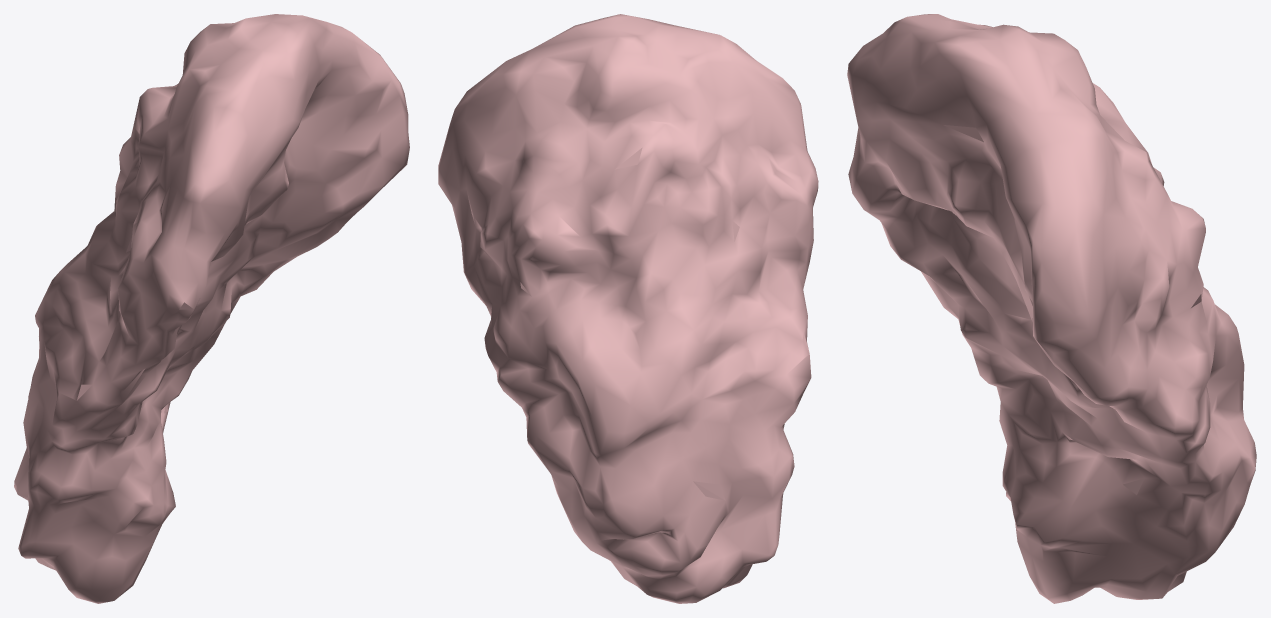
File: 3d-vh-m-palatine-tonsil-r_lod_20.glb
3 renders of one model, left to right at view 1: azimuth 30°, elevation 25°; view 2: azimuth 150°, elevation 25°; view 3: azimuth 270°, elevation 25°, orthographic. The views are drawn at different scales.
Visible parts, largest first — view 1: VH_M_palatine_tonsil_R; view 2: VH_M_palatine_tonsil_R; view 3: VH_M_palatine_tonsil_R.
Part boxes in pixels (left/top/right/bottom): VH_M_palatine_tonsil_R: left=14, top=14, right=409, bottom=603; VH_M_palatine_tonsil_R: left=438, top=14, right=818, bottom=603; VH_M_palatine_tonsil_R: left=847, top=14, right=1256, bottom=603.
Bounding box in the file's own units: 0.0168 × 0.0239 × 0.0139.
